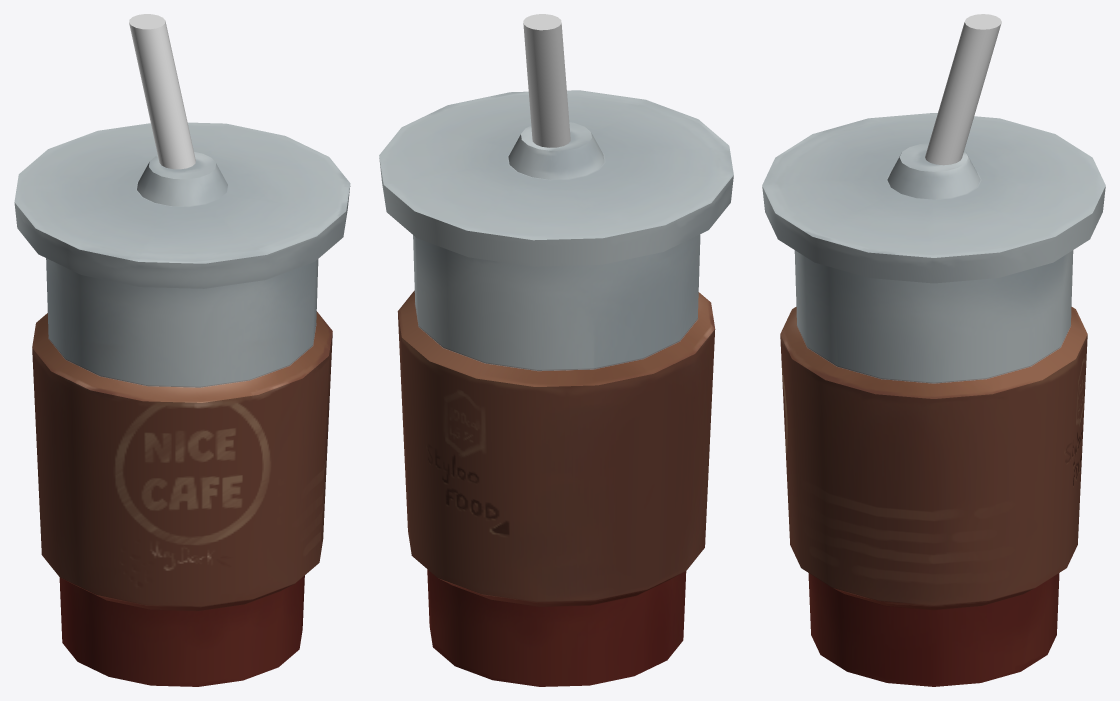
Rendered from cafenice.fbx.
3 views of the same model, side by side, from view 1: azimuth 30°, elevation 25°; view 2: azimuth 150°, elevation 25°; view 3: azimuth 270°, elevation 25° (orthographic). The views are drawn at different scales.
Parts seen in each view (by area): view 1: cafenice, Cylinder.008; view 2: cafenice, Cylinder.008; view 3: cafenice, Cylinder.008.
Part boxes in pixels (left/top/right/bottom): cafenice: left=14, top=122, right=350, bottom=686; Cylinder.008: left=129, top=14, right=195, bottom=169; cafenice: left=379, top=90, right=733, bottom=686; Cylinder.008: left=523, top=14, right=570, bottom=147; cafenice: left=762, top=113, right=1105, bottom=686; Cylinder.008: left=925, top=14, right=1001, bottom=165.
Size of the model in its own units: 18.36 by 35.82 by 18.36.
